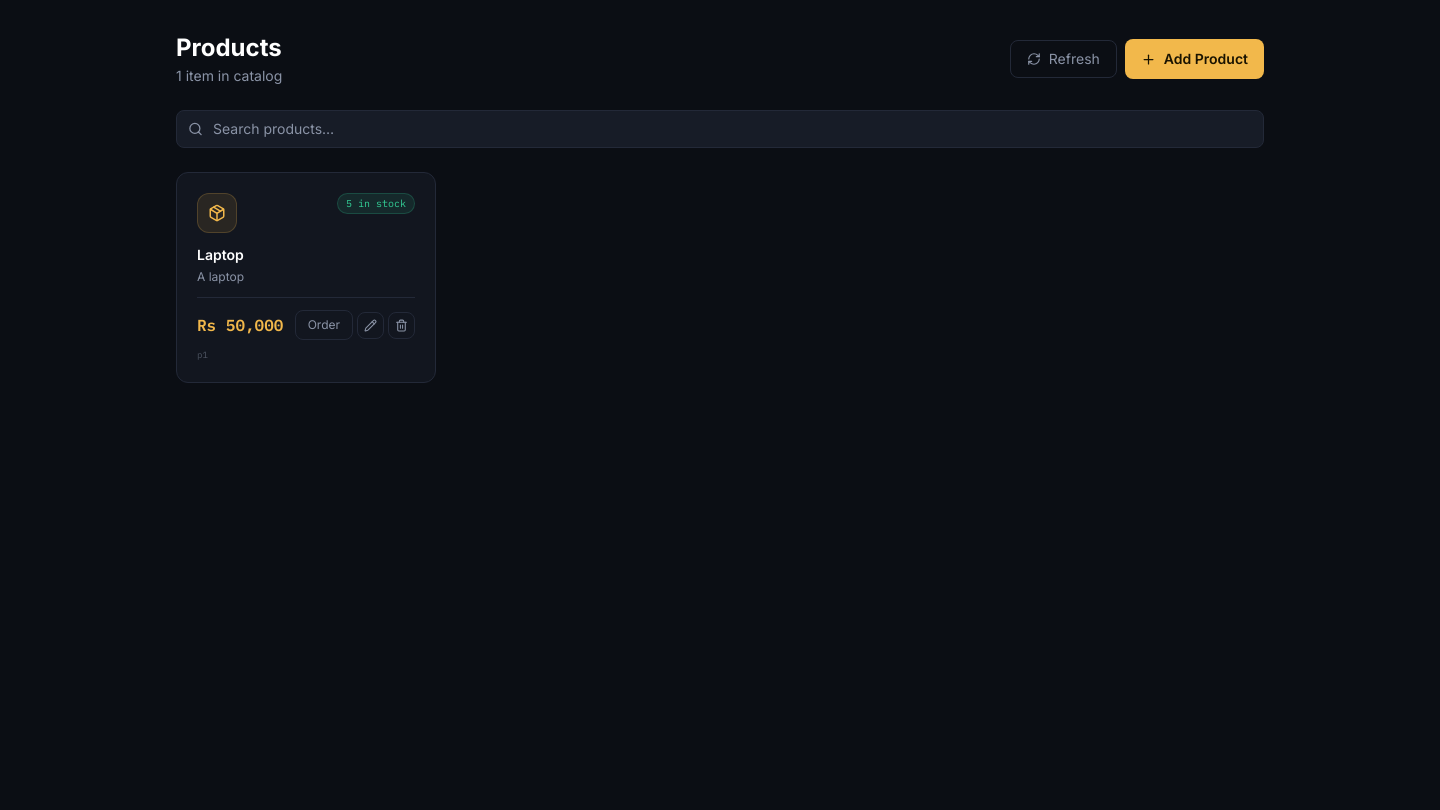
Test case: ProductsPage — Delete modal › opens delete confirm modal
What coordinates should you click on to do the following:
click the button titled "Delete product"
I would click on:
 (402, 325)
Its box is x1=388 y1=312 x2=415 y2=338.
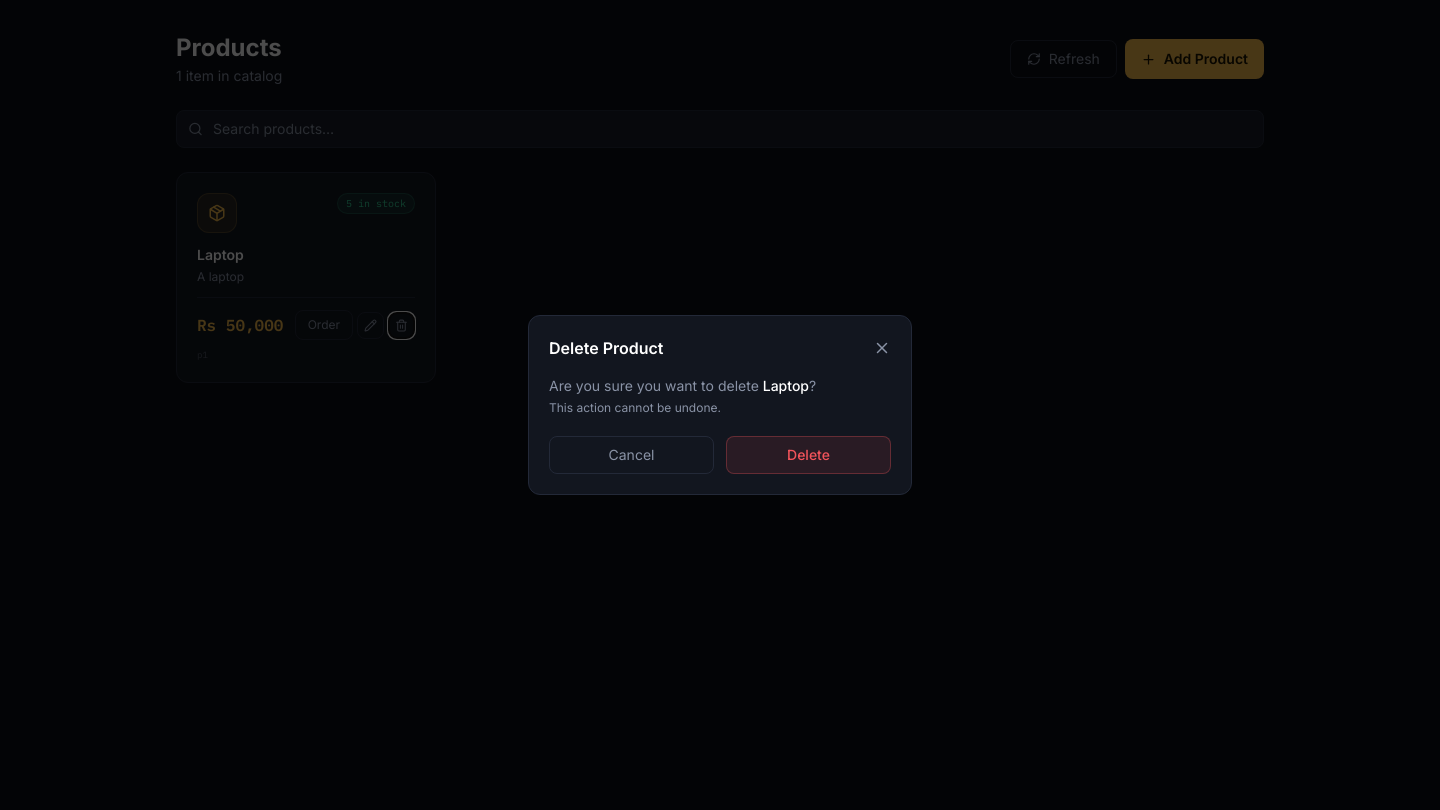
Check: the text "Are you sure you want to delete Laptop?" is shown, box x1=549 y1=377 x2=816 y2=394
